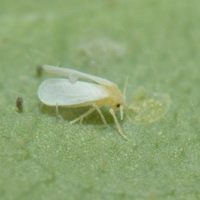insect: (37, 64, 126, 139), (37, 64, 126, 139)
